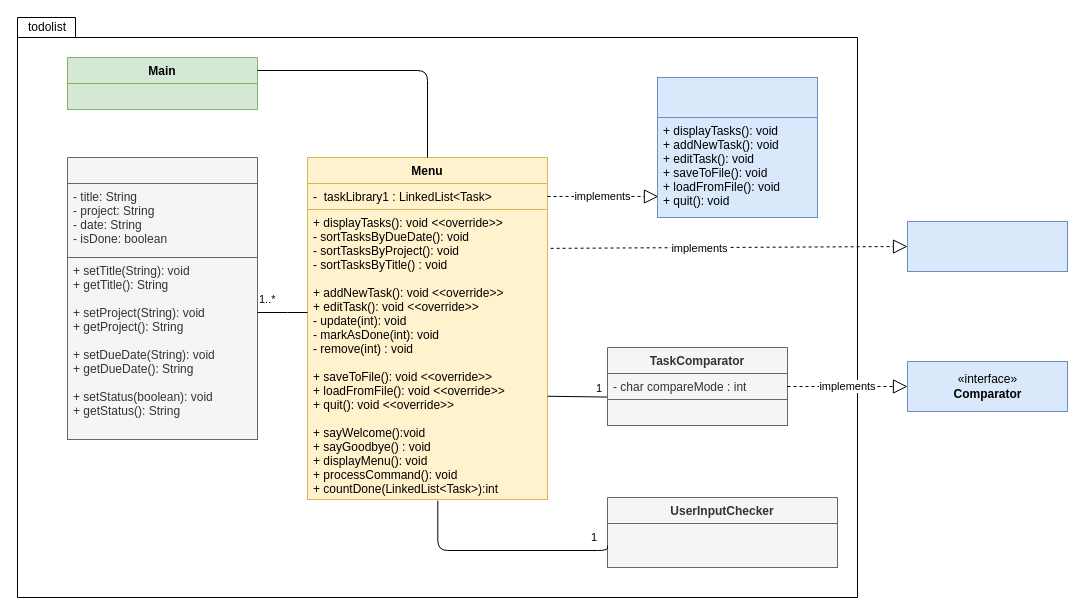
Image size: 1085x615. Some labels were removed from this diagram. The shapes that lost their labels are listed below. From the top down, each one's box as (x1, y1, x2, y2) in pixels, then its label:
(66, 82, 258, 110): + run(): void
(656, 76, 818, 118): «interface» Commands
(906, 220, 1068, 272): «interface» Serializable
(66, 156, 258, 440): Task
(606, 398, 788, 426): + compare(Task a, Task b): int
(606, 522, 838, 568): + getValidString(String , String ) : String + getValidDate(String date) : String
